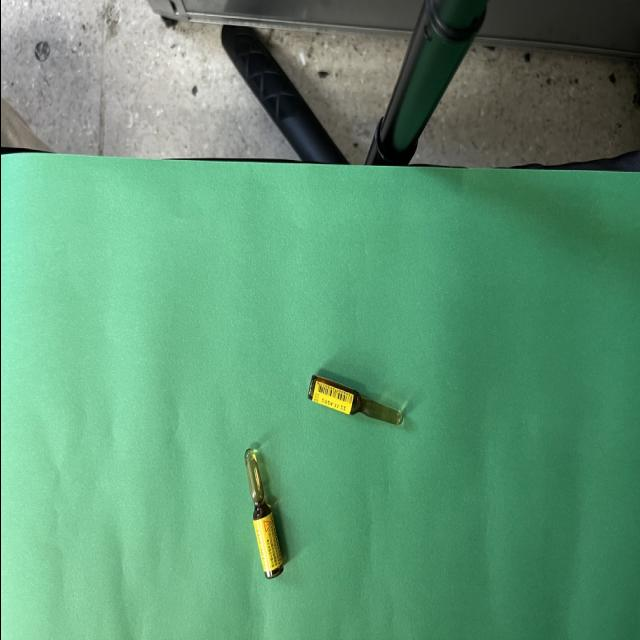Ampoules: (244, 449, 284, 578), (307, 376, 402, 425)
